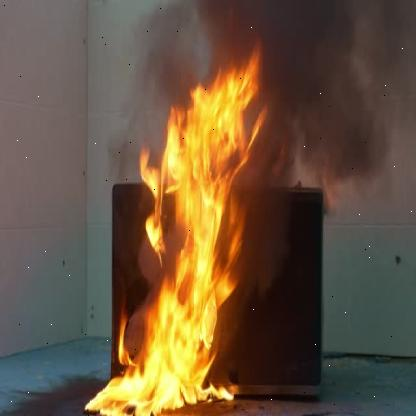fire: (76, 70, 255, 416)
smoke: (106, 0, 416, 319)
